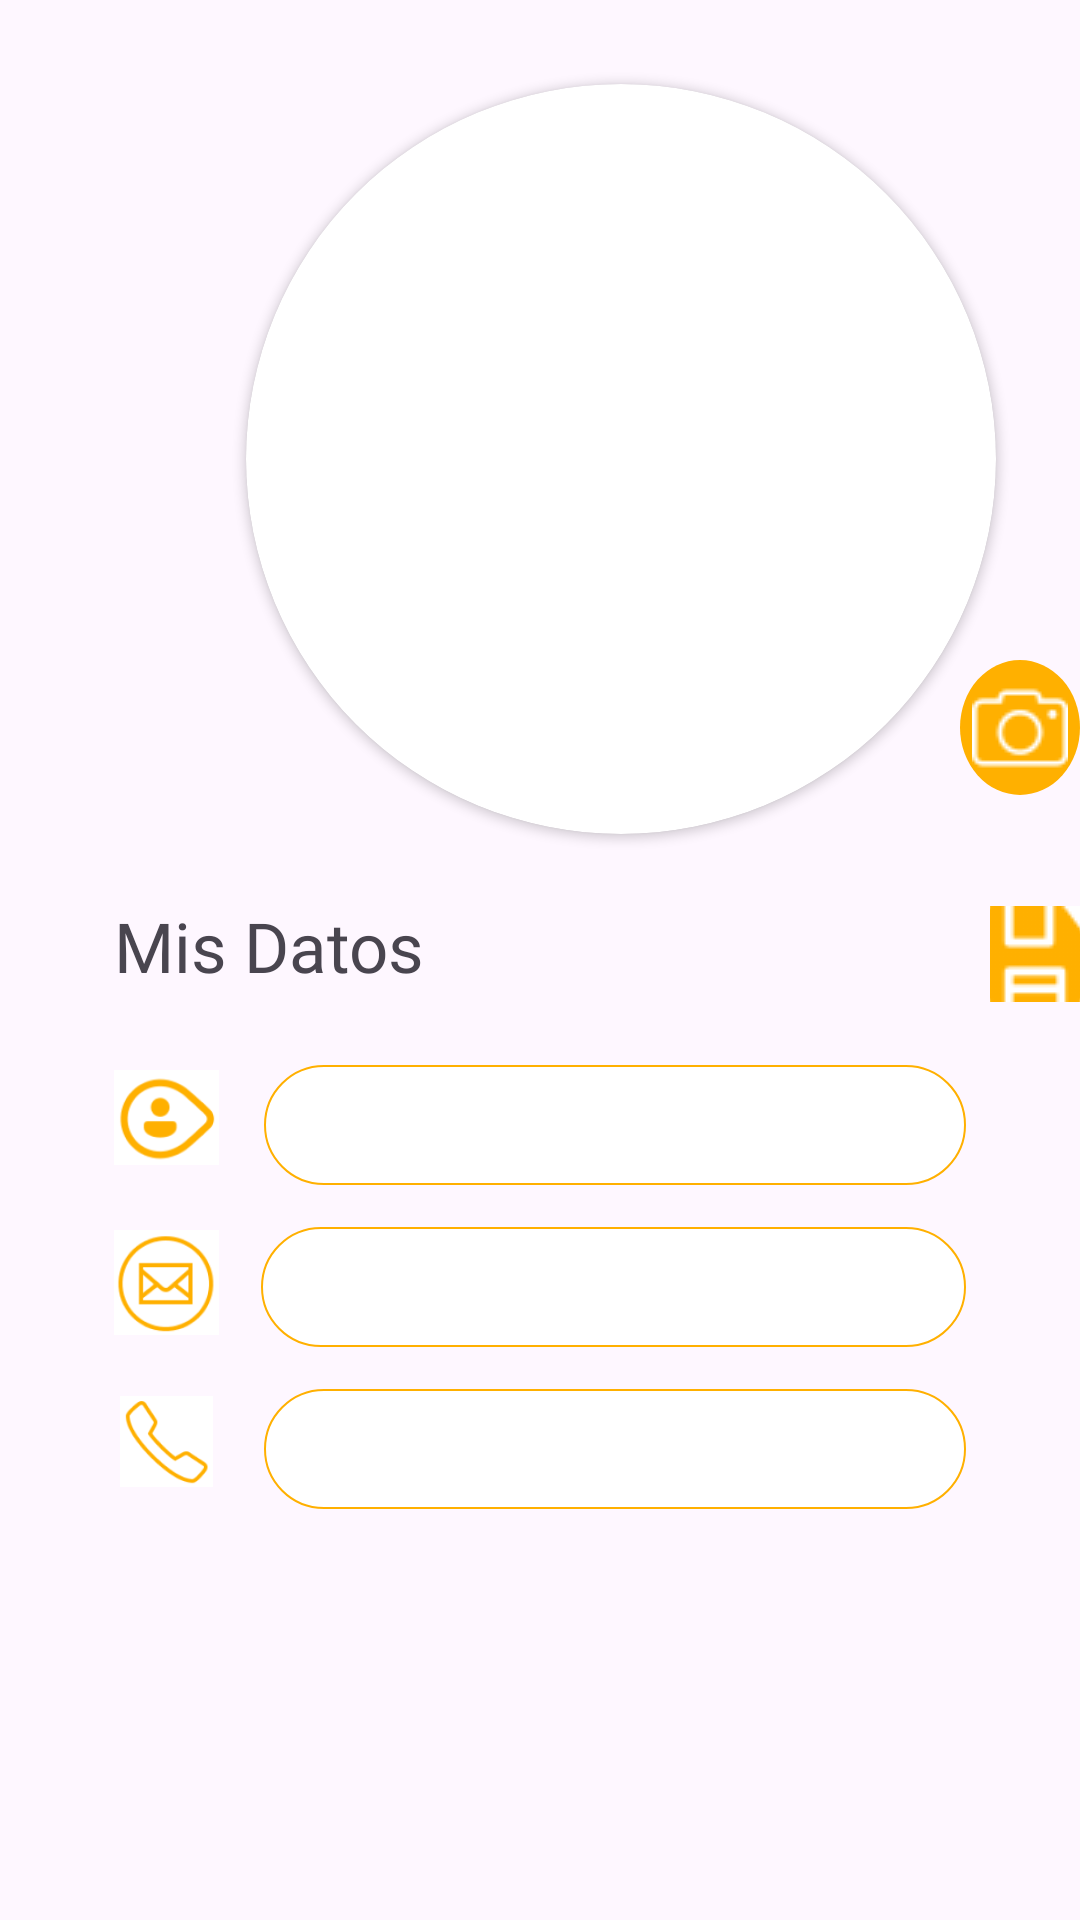

Named icons in this screenshot (1080px×1920px) and their bounding boxes, (x1, y1, x2, y2):
camara: (960, 660, 1080, 795)
cel: (125, 1401, 208, 1484)
correo: (118, 1236, 214, 1332)
nombre usuario: (120, 1078, 215, 1160)
